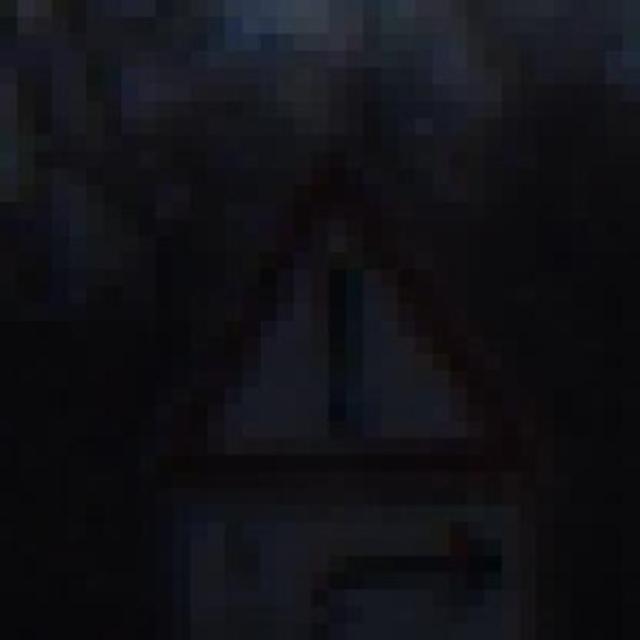Attention Please-: (115, 159, 548, 513)
